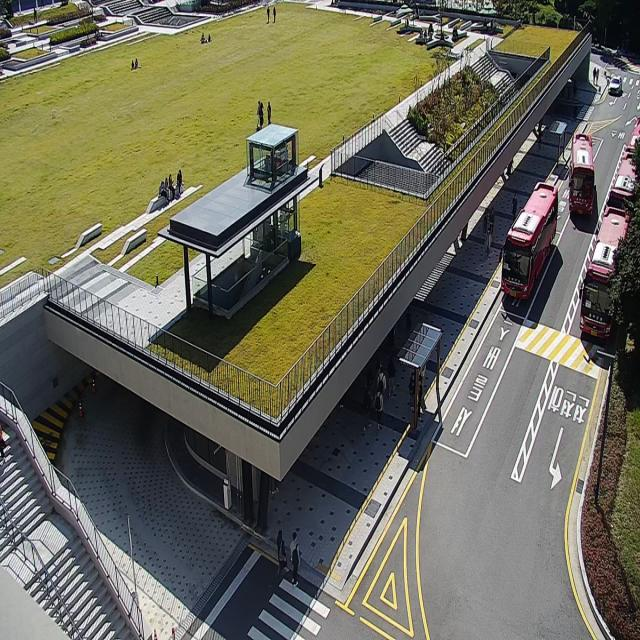queue: (411, 330, 441, 438)
